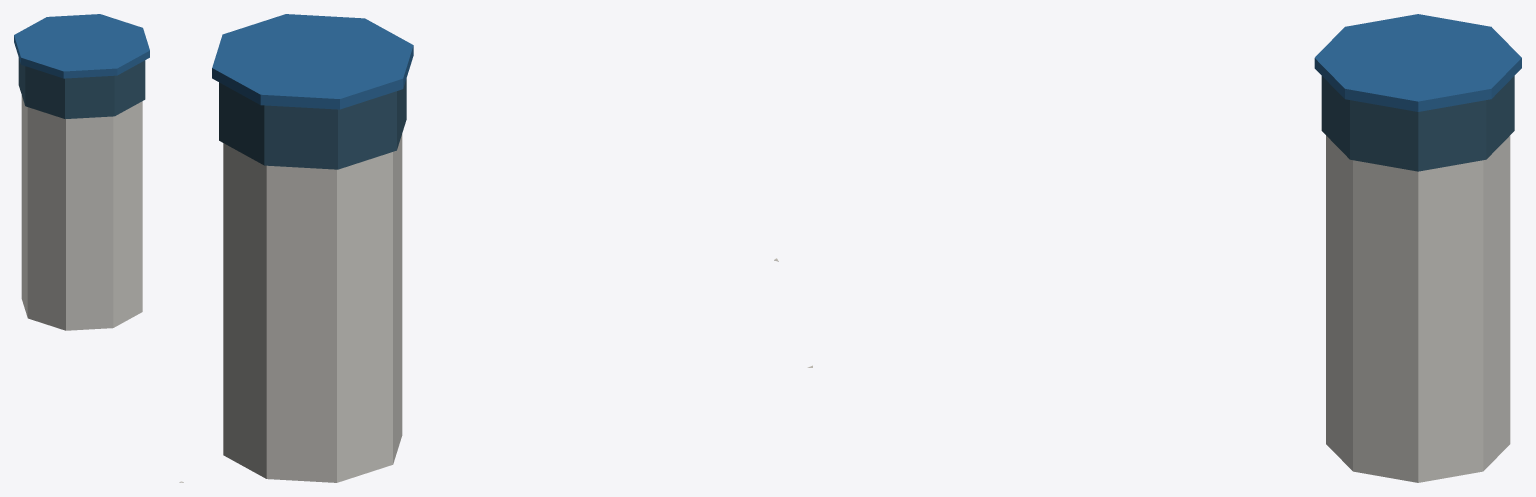
The model's file is ora_portauth.glb.
The picture shows the model from 3 angles, left to right: view 1: azimuth 30°, elevation 25°; view 2: azimuth 150°, elevation 25°; view 3: azimuth 270°, elevation 25°; orthographic projection. The views are drawn at different scales.
Parts seen in each view (by area): view 1: ora_portauth_lod0; view 2: ora_portauth_lod0; view 3: ora_portauth_lod0.
Boxes of the visible parts, <box> form: ora_portauth_lod0: <box>14,14,183,482</box>; ora_portauth_lod0: <box>212,14,778,482</box>; ora_portauth_lod0: <box>807,14,1521,482</box>.
Size of what is drawn, in the model's own units: 10.04 by 14.8 by 24.82.
